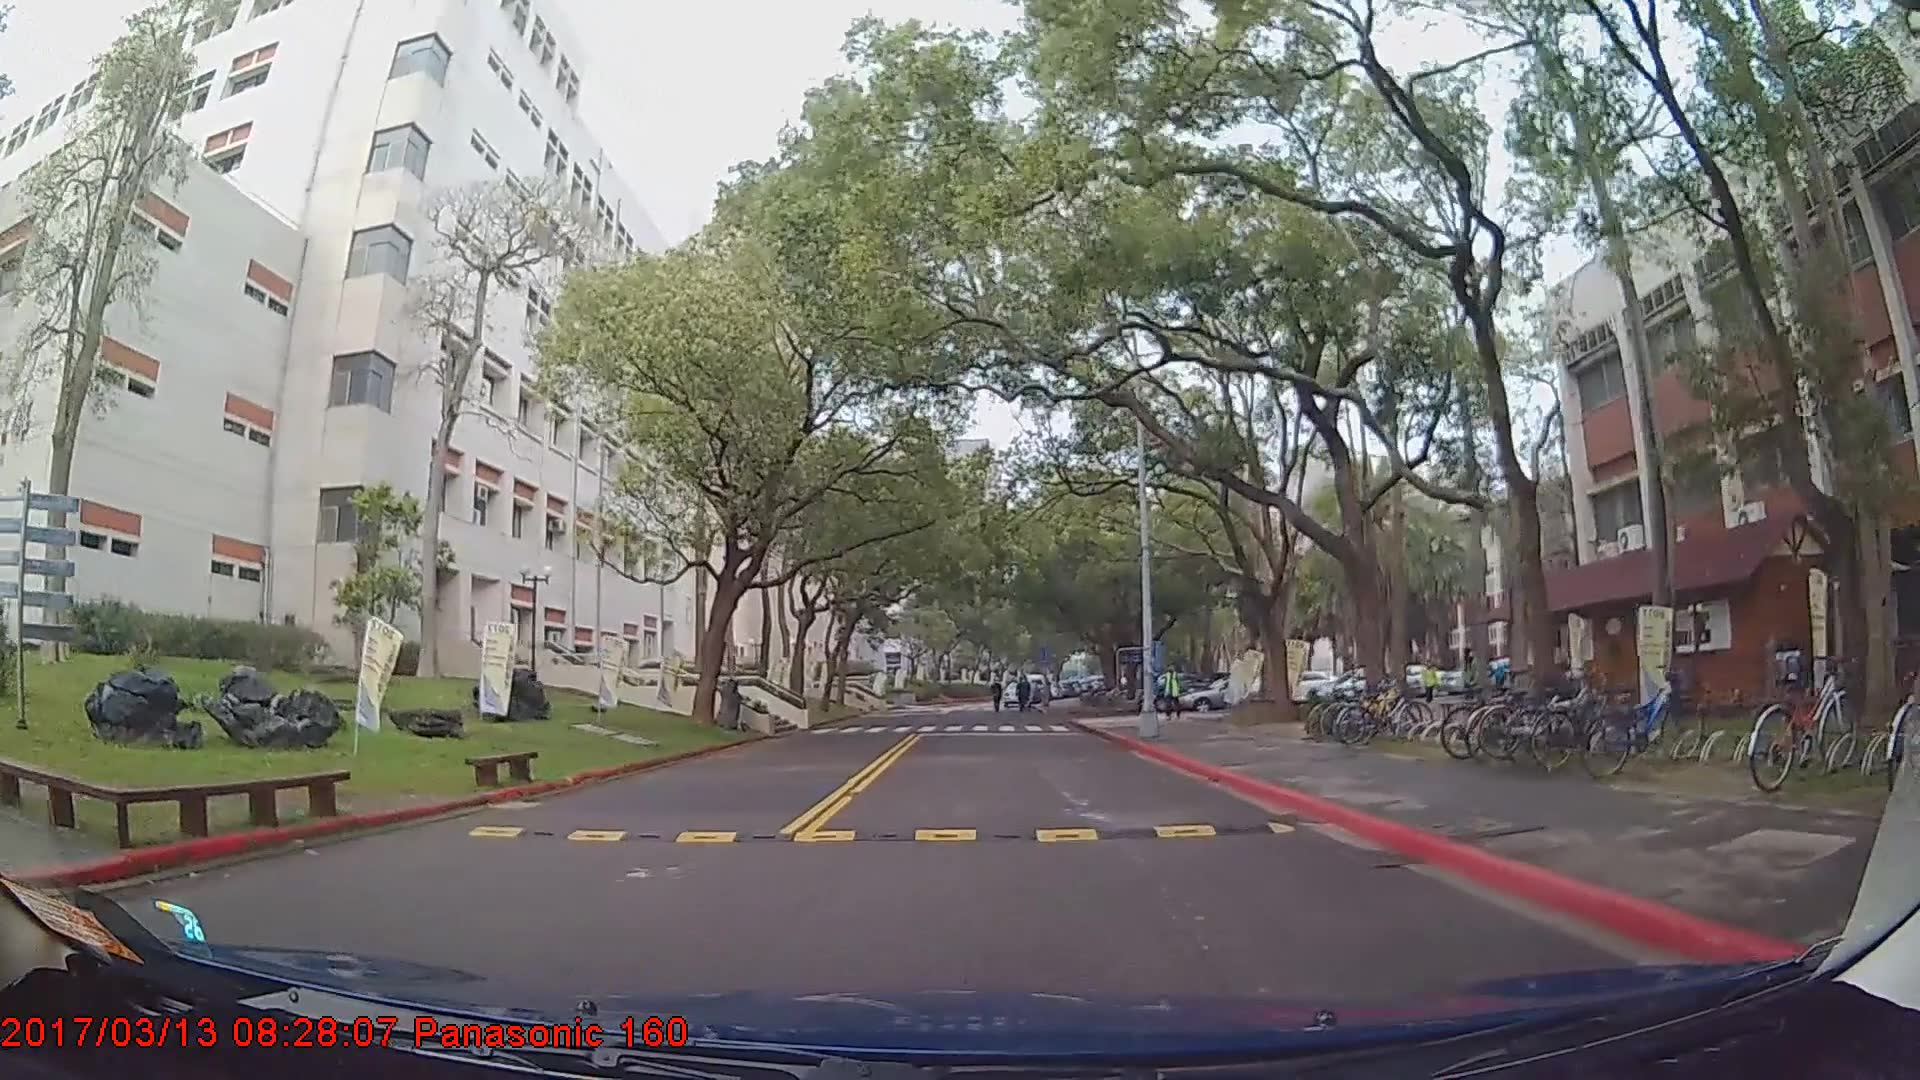vehicle: (1178, 675, 1273, 712)
